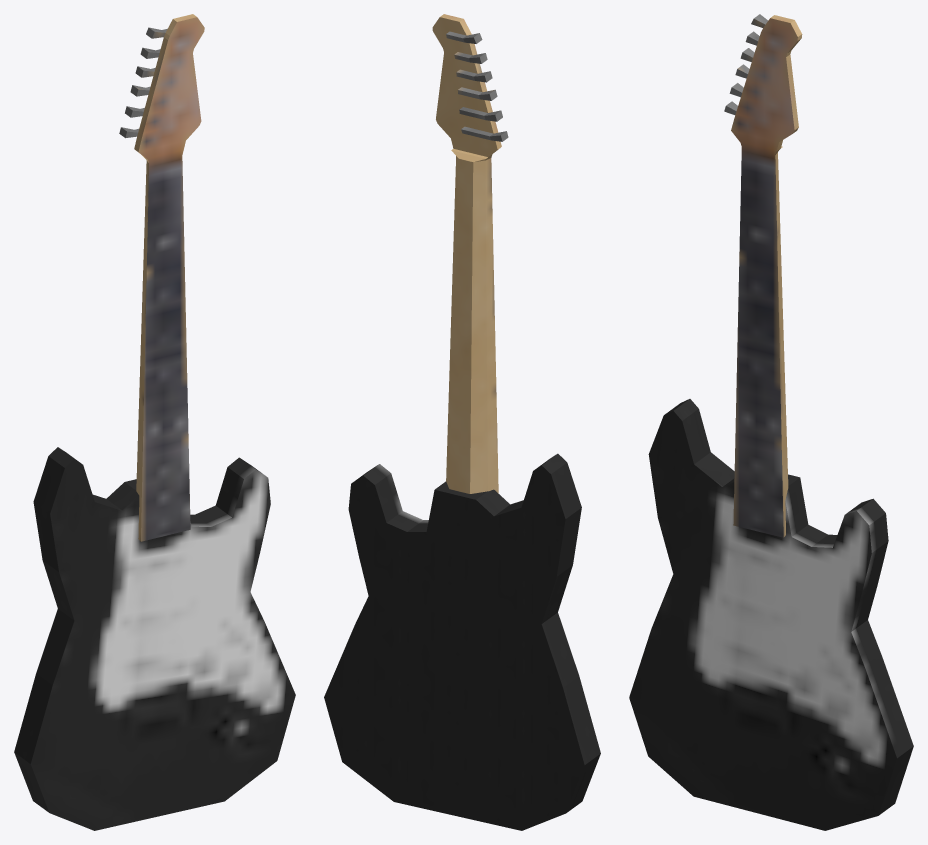
Rendered from int_guitar_black.fbx.
3 renders of one model, left to right at view 1: azimuth 30°, elevation 25°; view 2: azimuth 150°, elevation 25°; view 3: azimuth 330°, elevation 25°, orthographic. The views are drawn at different scales.
Visible parts, largest first — view 1: electric_guitar.005; view 2: electric_guitar.005; view 3: electric_guitar.005.
Part boxes in pixels (x1,y1,x2,y2): electric_guitar.005: (14, 14, 295, 830); electric_guitar.005: (324, 14, 600, 830); electric_guitar.005: (629, 14, 913, 830).
Bounding box in the file's own units: 64.18 × 184 × 8.4.
